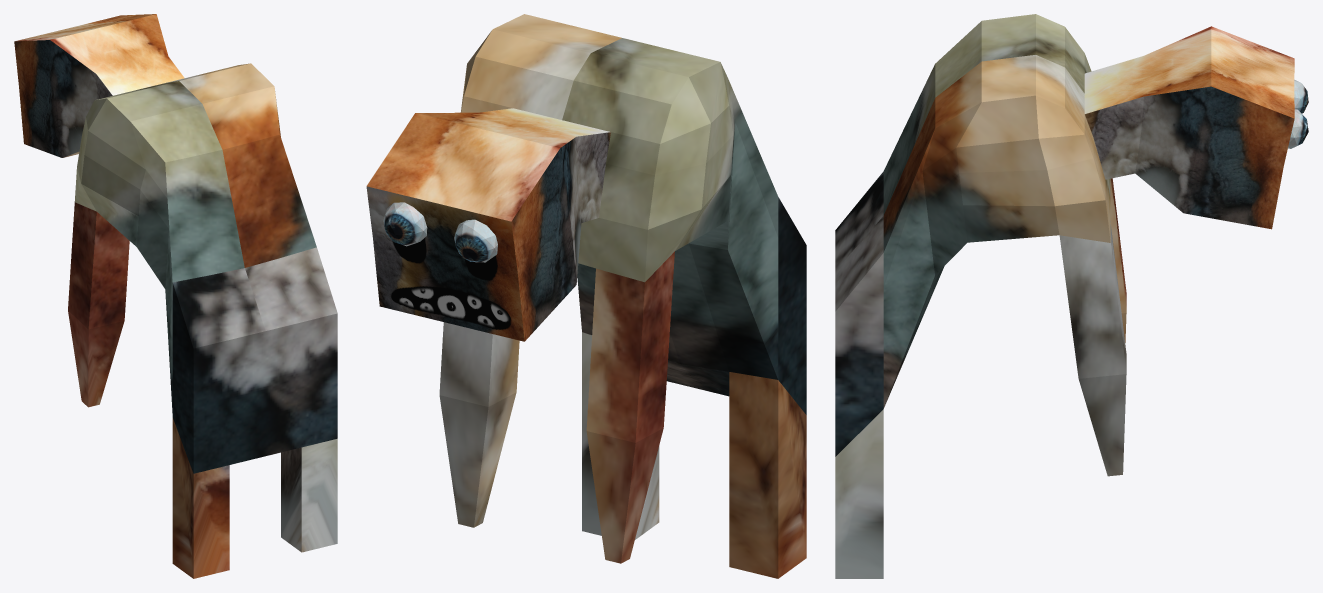
The model's file is parallel_hunter.glb.
3 renders of one model, left to right at view 1: azimuth 30°, elevation 25°; view 2: azimuth 150°, elevation 25°; view 3: azimuth 270°, elevation 25°, orthographic. The views are drawn at different scales.
Parts seen in each view (by area): view 1: Cube; view 2: Cube; view 3: Cube.
Part boxes in pixels (bbox=[...]): Cube: bbox=[14, 14, 337, 578]; Cube: bbox=[366, 14, 806, 578]; Cube: bbox=[835, 14, 1308, 578].
Size of the model in its own units: 1.24 by 2.76 by 2.45.
Materials: 1 (1 with a texture image).
